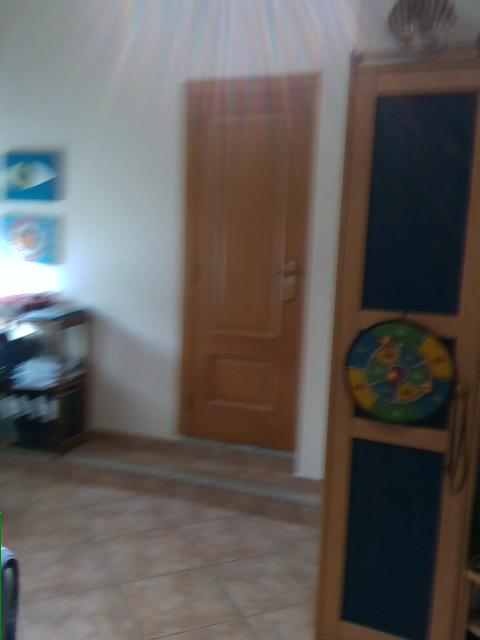door: (171, 69, 321, 459)
